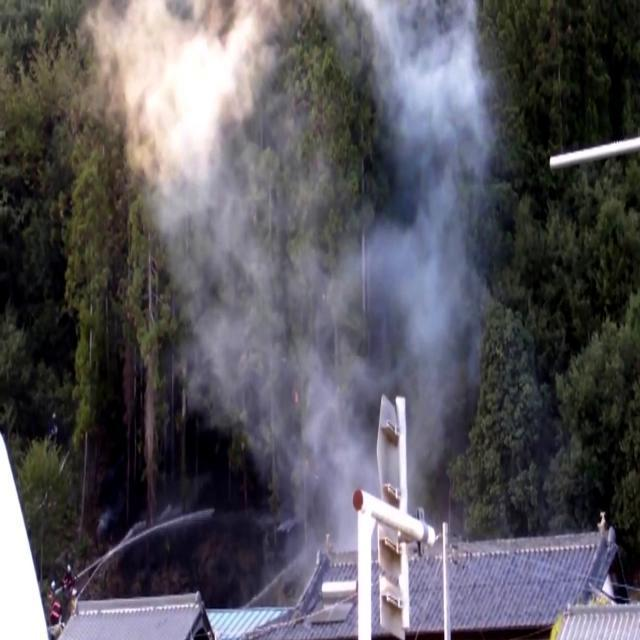Smoke: (130, 0, 512, 520)
